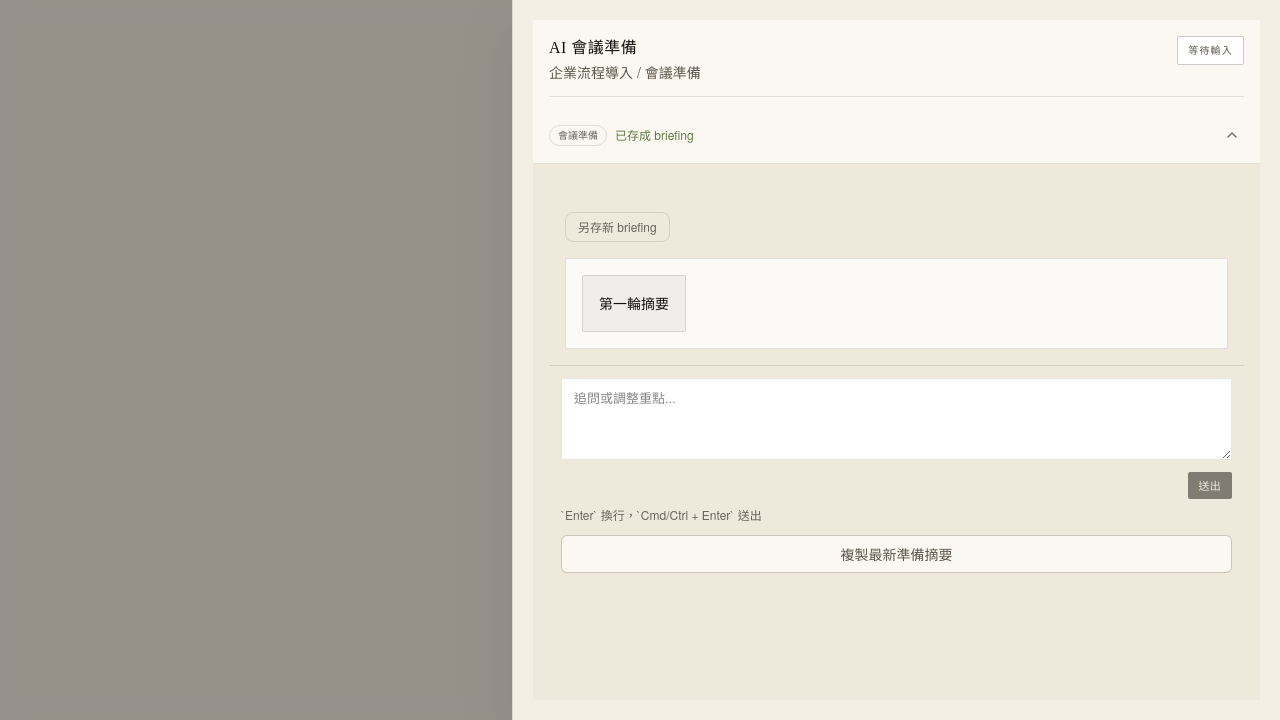
Scenario: CrmAiPanel › shows helper stderr when a follow-up turn exits with non-zero code
The image size is (1280, 720).
Check: the text "第一輪摘要" is shown, box [599,292,669,315]
Type "請再補充客戶痛點" into the text box with placeholder "追問或調整重點..." at (896, 419), box [561,378,1232,460]
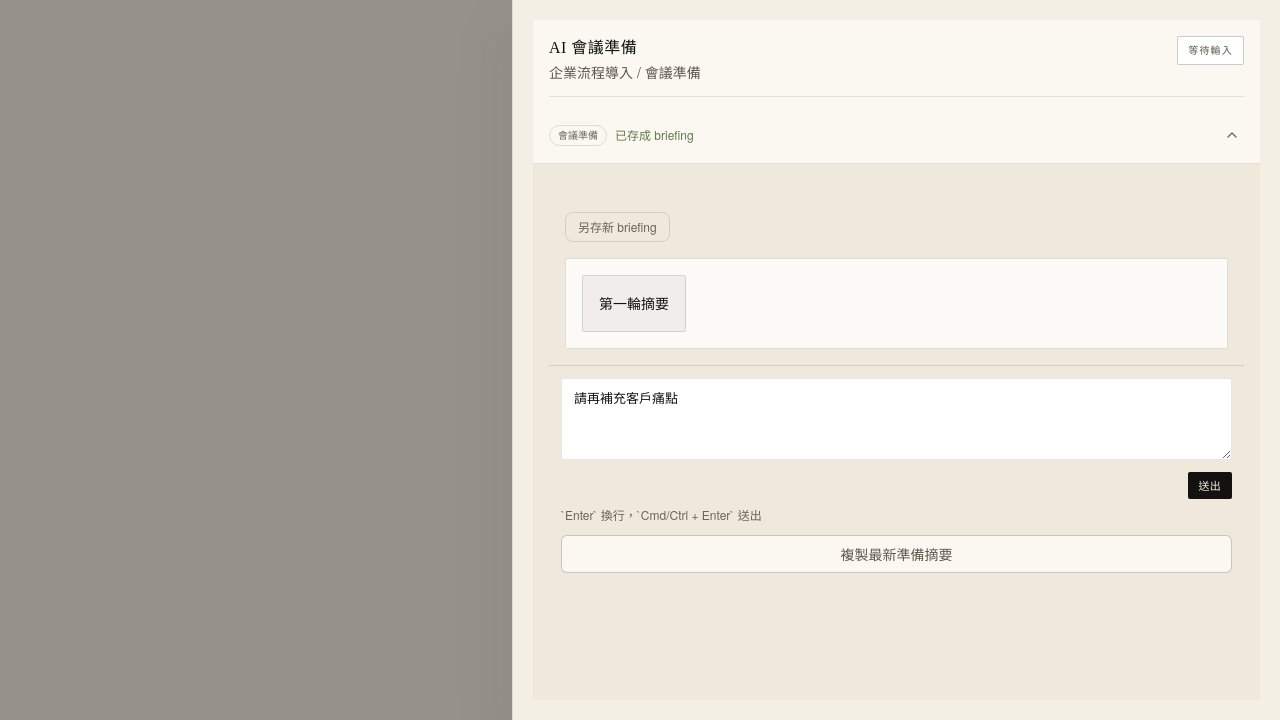
Click the button "送出" at (1210, 485), box [1188,472,1232,499]
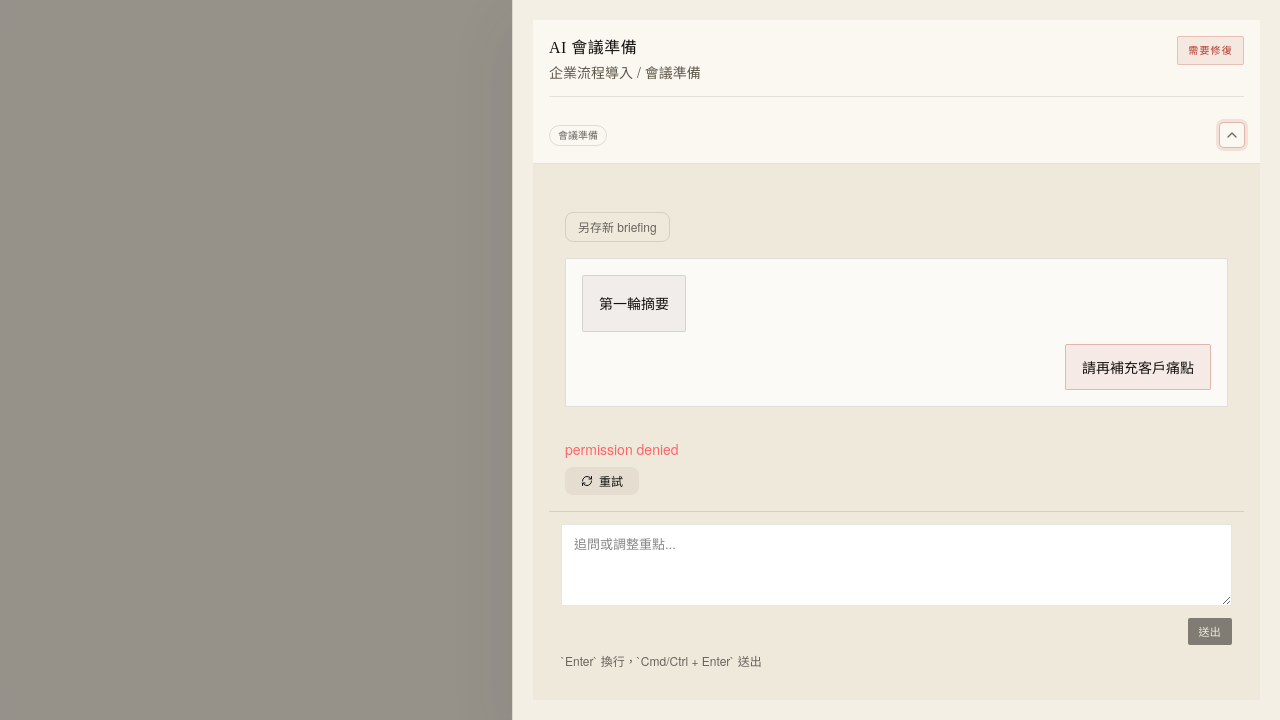
Check: the text "permission denied" is shown, box [565,439,679,459]
